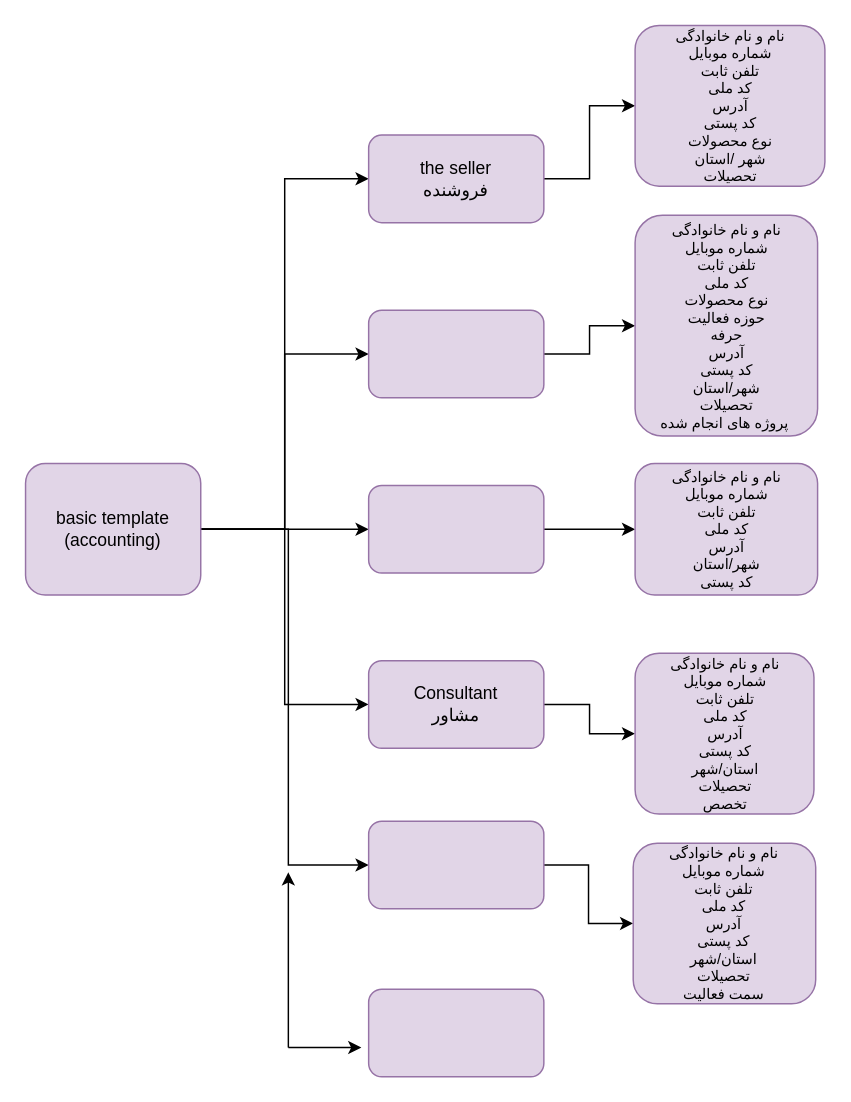
Some shapes in this 851 by 1102 pixel diagram are drawn without their labels. The shapes that lost their labels are listed below. From the top down, each one's box as (x1, y1, x2, y2) in pixels, then its label:
(367, 309, 544, 398): the contractor پیمانکار
(367, 484, 544, 573): customer مشتری
(367, 820, 544, 909): staff کارمند
(367, 988, 544, 1077): seo staff
